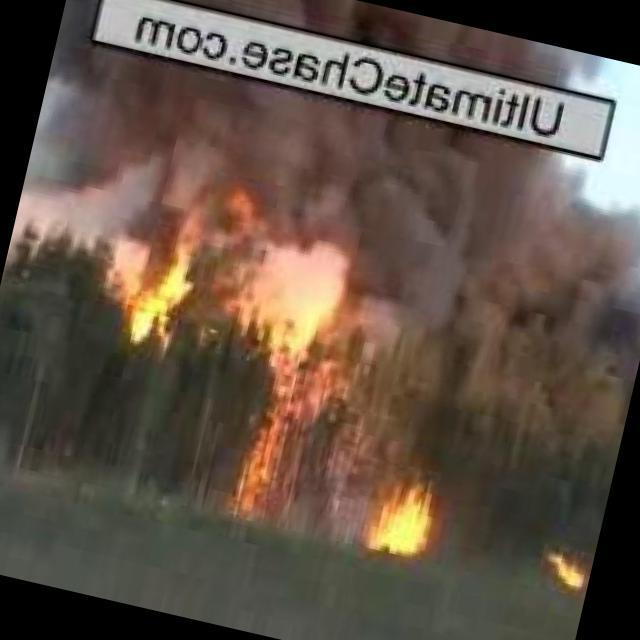Fire: (208, 318, 350, 535), (92, 194, 214, 357), (357, 471, 441, 561), (548, 559, 587, 590)
